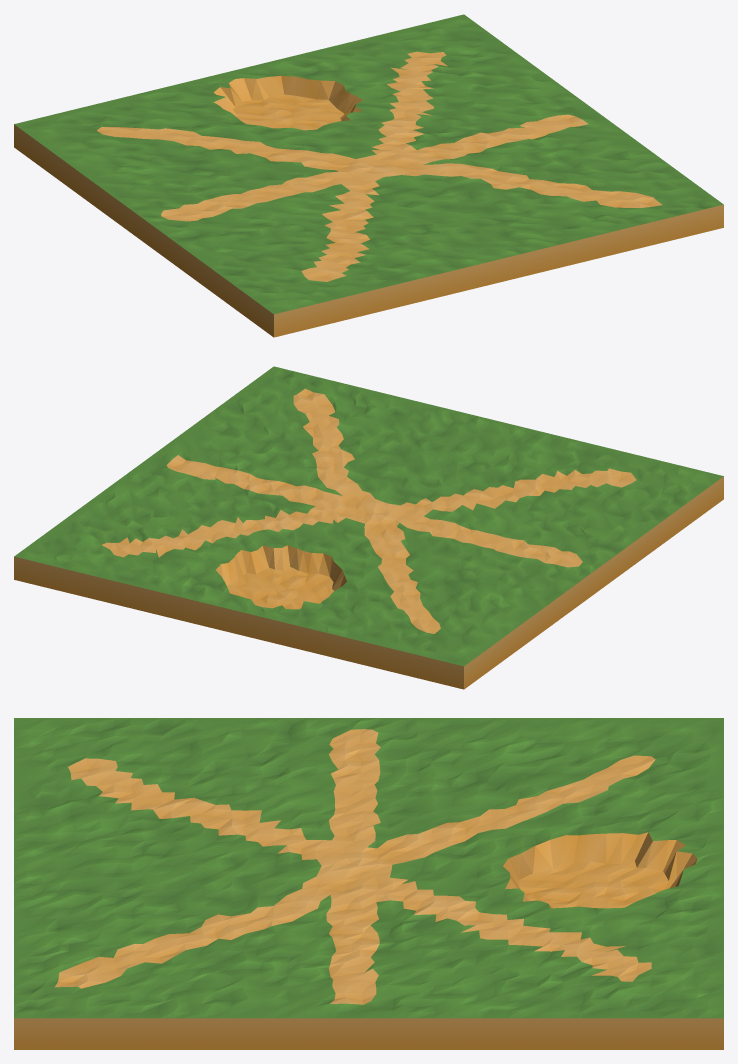
File: BattleGround.fbx
3 views of the same model, one above another, from view 1: azimuth 30°, elevation 25°; view 2: azimuth 150°, elevation 25°; view 3: azimuth 270°, elevation 25° (orthographic). The views are drawn at different scales.
Parts seen in each view (by area): view 1: BattleGround; view 2: BattleGround; view 3: BattleGround.
Part boxes in pixels (x1=…): BattleGround: x1=14, y1=14, x2=723, y2=337; BattleGround: x1=14, y1=366, x2=723, y2=689; BattleGround: x1=14, y1=718, x2=723, y2=1049.
Bounding box in the file's own units: 10000 × 516 × 10001.
